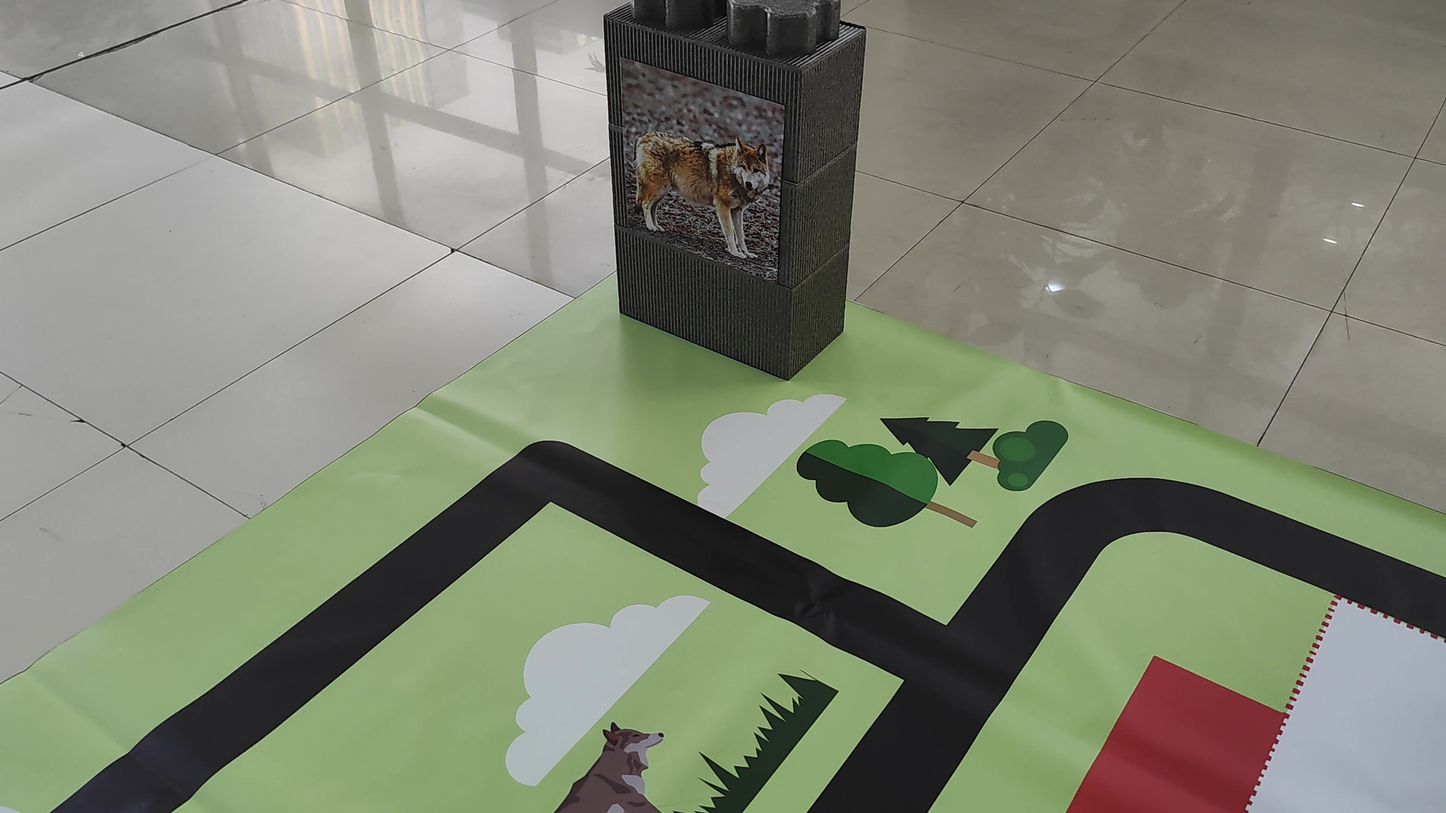wolf: (622, 110, 782, 271)
